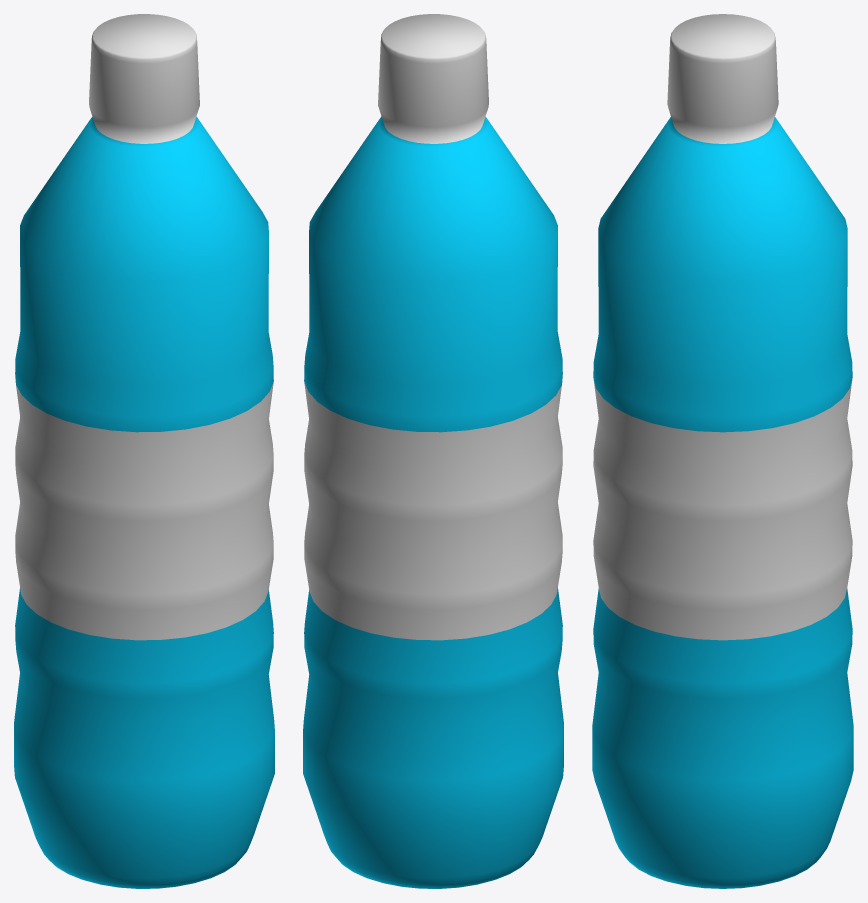
File: Bottle.fbx
3 renders of one model, left to right at view 1: azimuth 30°, elevation 25°; view 2: azimuth 150°, elevation 25°; view 3: azimuth 270°, elevation 25°, orthographic.
Parts seen in each view (by area): view 1: Cylinder.001; view 2: Cylinder.001; view 3: Cylinder.001.
Part boxes in pixels (box(x1,y1,x2,y2)): Cylinder.001: box(14, 14, 274, 888); Cylinder.001: box(303, 14, 563, 888); Cylinder.001: box(592, 14, 853, 888).
Bounding box in the file's own units: 139 × 477 × 139.
